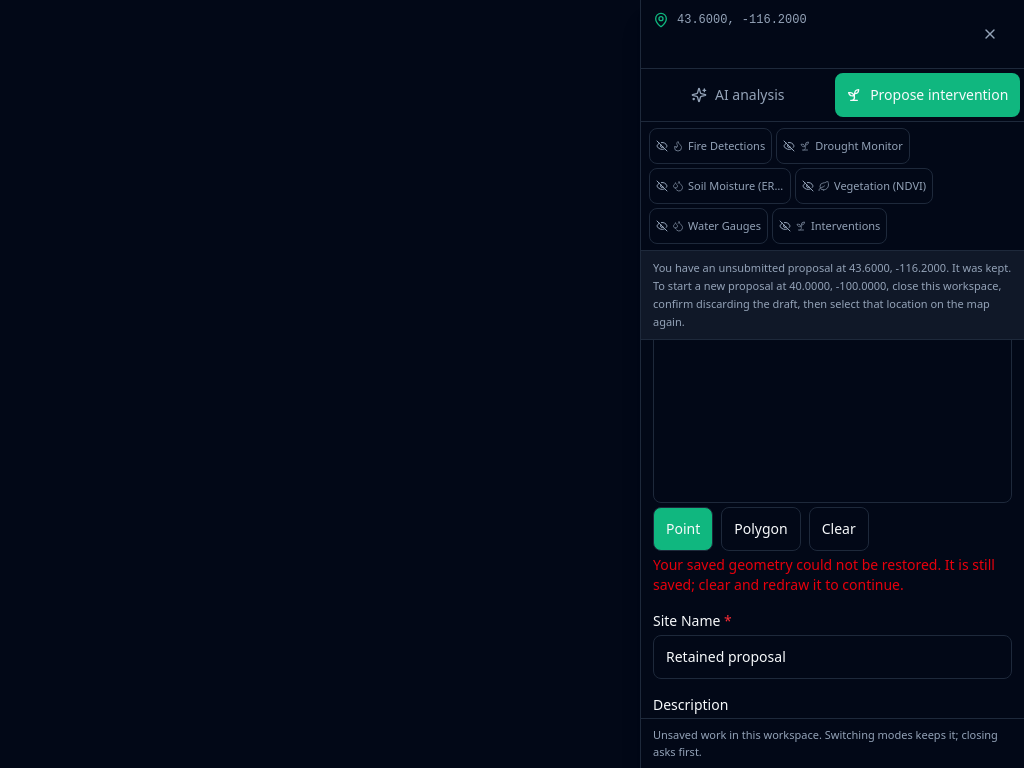
Test: workspace draft recovery › keeps failed recovery visible and blocks submission without deleting the draft
The image size is (1024, 768).
(page scrolled)
Expected: the message shows "It is still saved", left=653, top=554, right=995, bottom=594
Click the button "Clear".
click(839, 528)  # box left=809, top=506, right=869, bottom=550
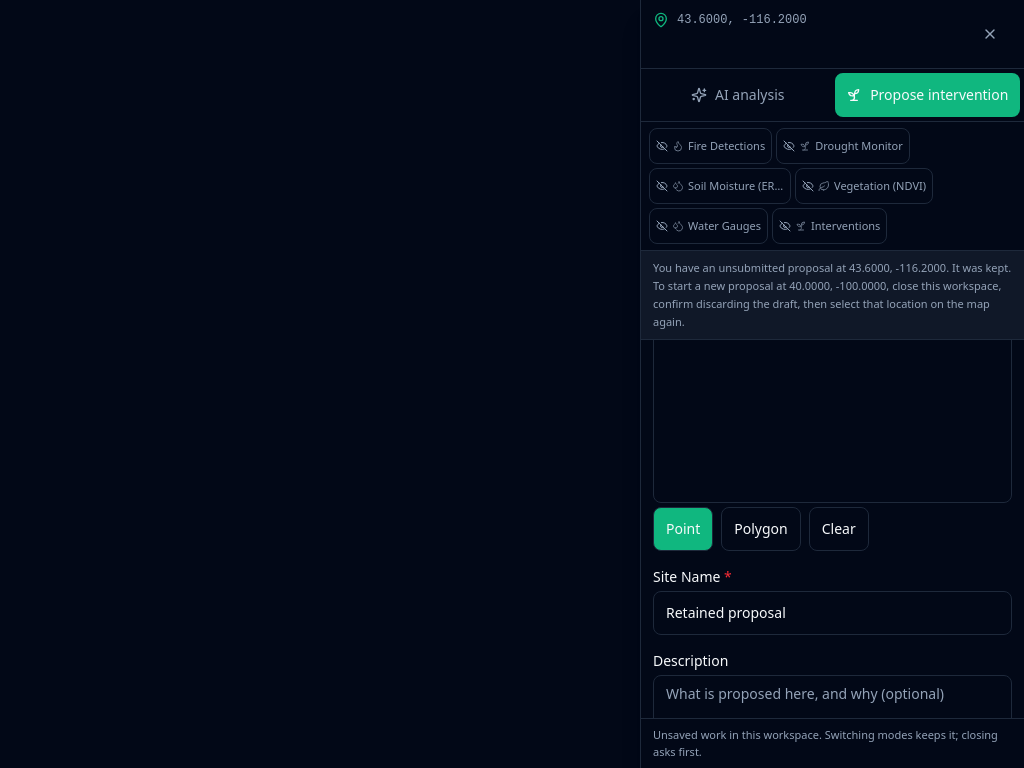
Expected: the message is gone
